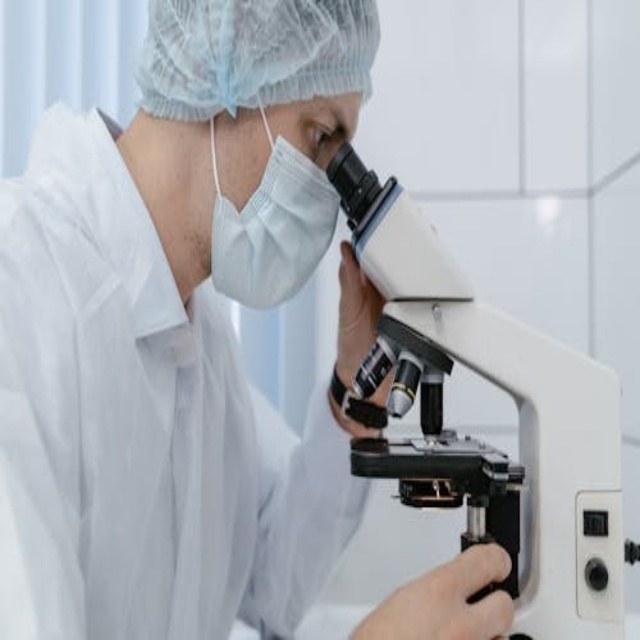Mascara: (209, 104, 343, 313)
Sin_gafas: (294, 96, 343, 169)
Sin_guantes: (344, 536, 532, 634)
